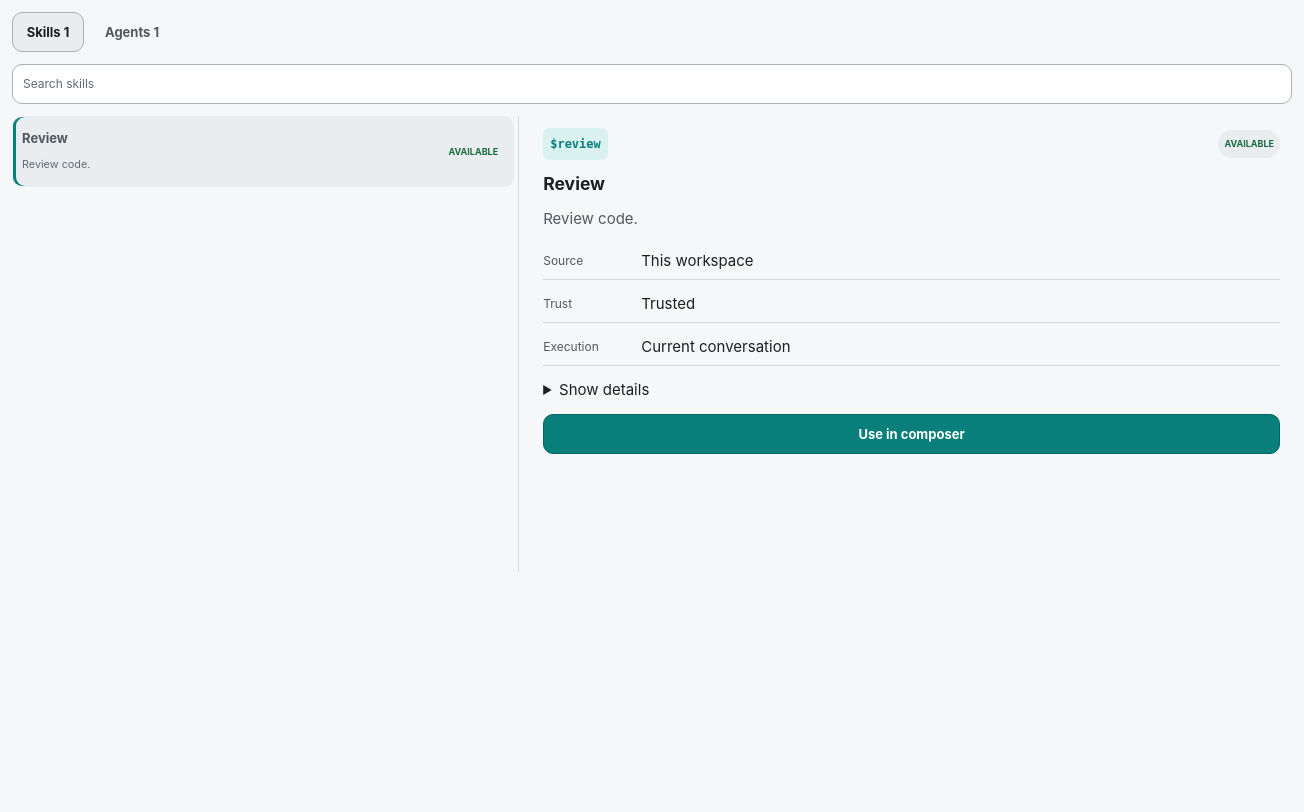
Test case: extension workbench › shows agent policy honestly without enabling execution
Click the tab "Agents 1" at (132, 32), box [92,12,172,52]
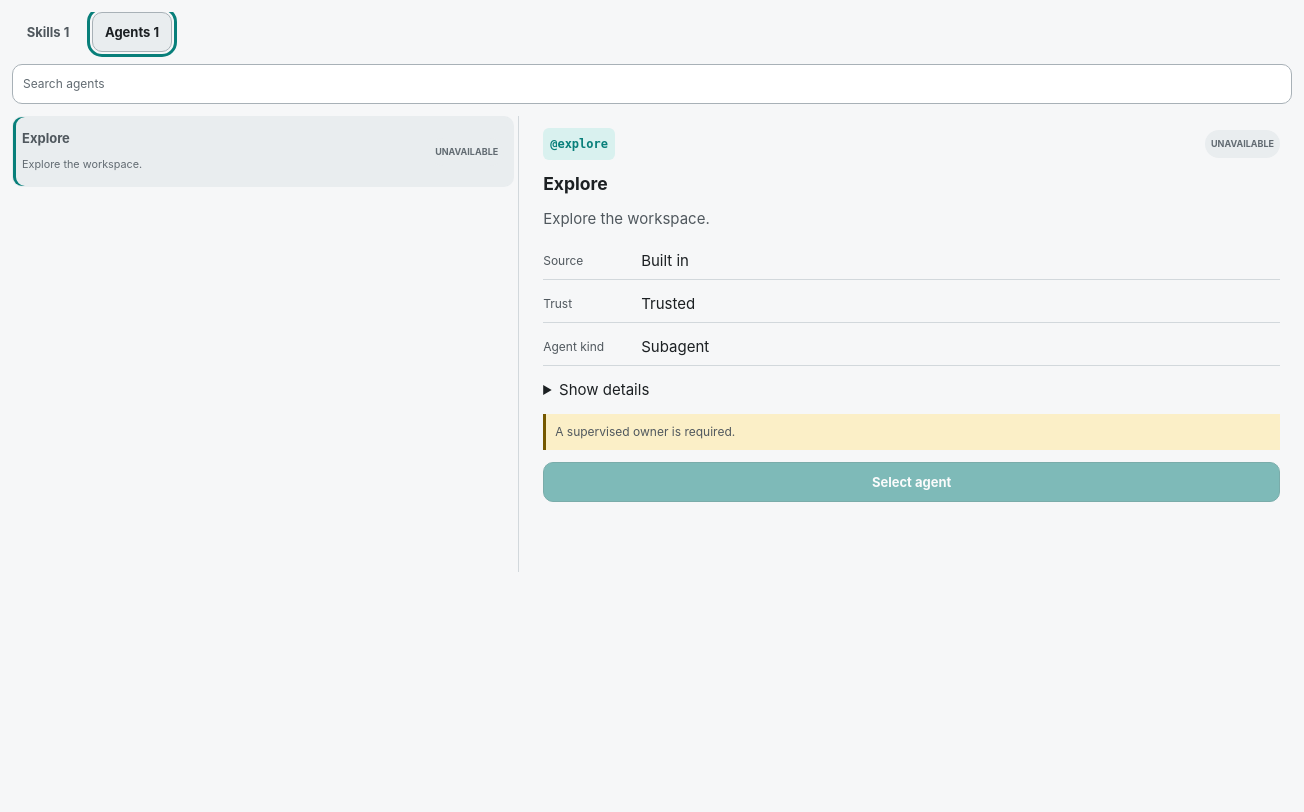
Expected: the text "A supervised owner is required." is shown, [543,414,1280,450]
Expected: the button "Select agent" is disabled, [543,462,1280,502]
